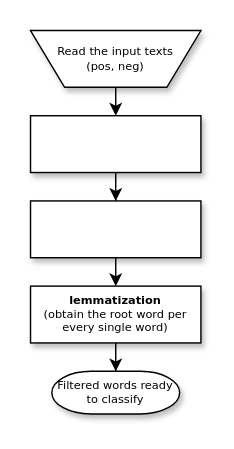
The diagram is 234 pixels wide and 449 high, and some of its shapes have lost their labels. The shapes that lost their labels are listed below. From the top down, each one's centre as x and y in pixels, then its label:
At (116,145): "tokenize the words (obtain a list with every single word)".
At (116,231): "remove stopwords (remove meaningless words)".
